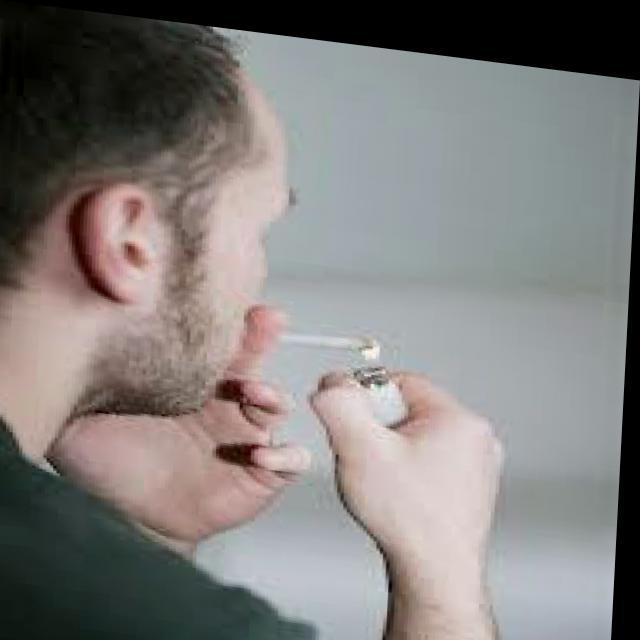Fire: (354, 316, 390, 354)
